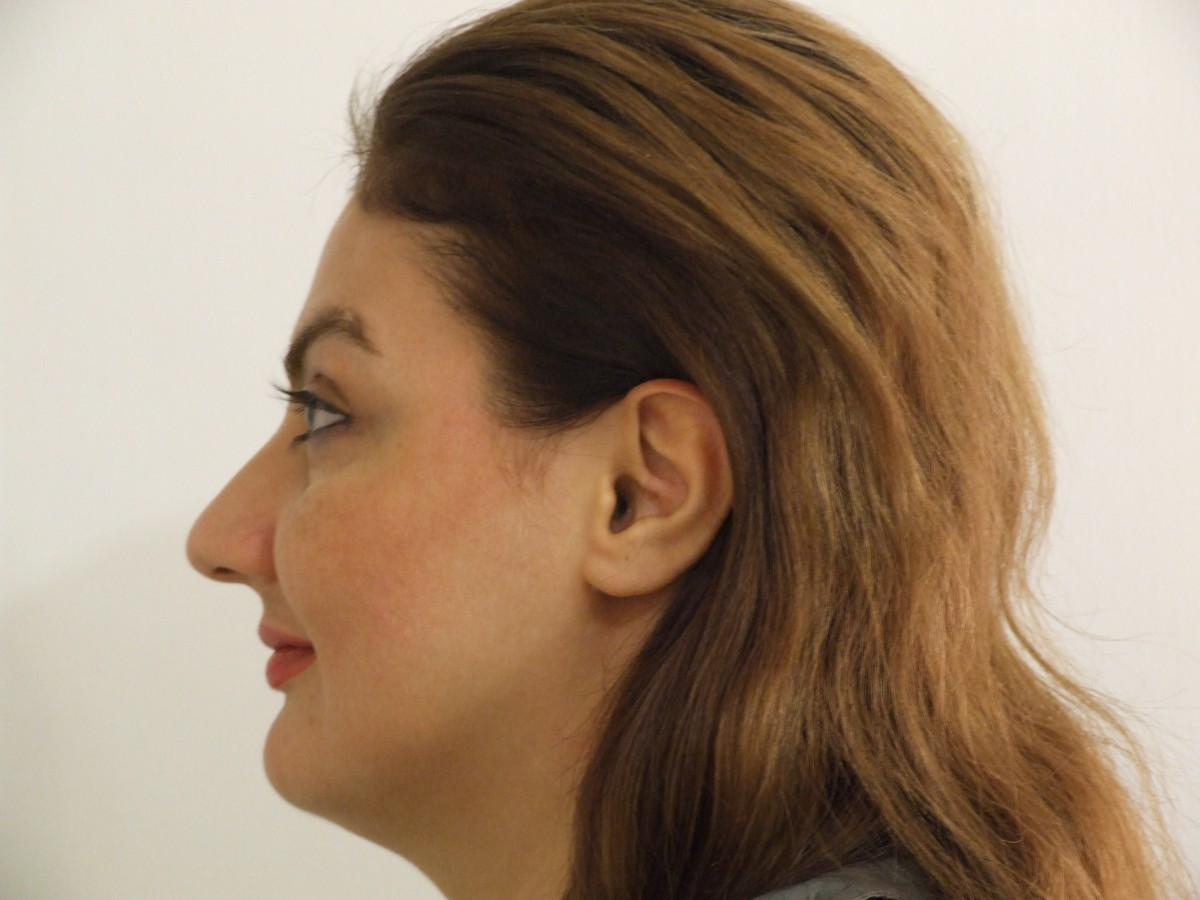neo: (299, 709, 333, 741)
occhiaia: (282, 425, 409, 492)
